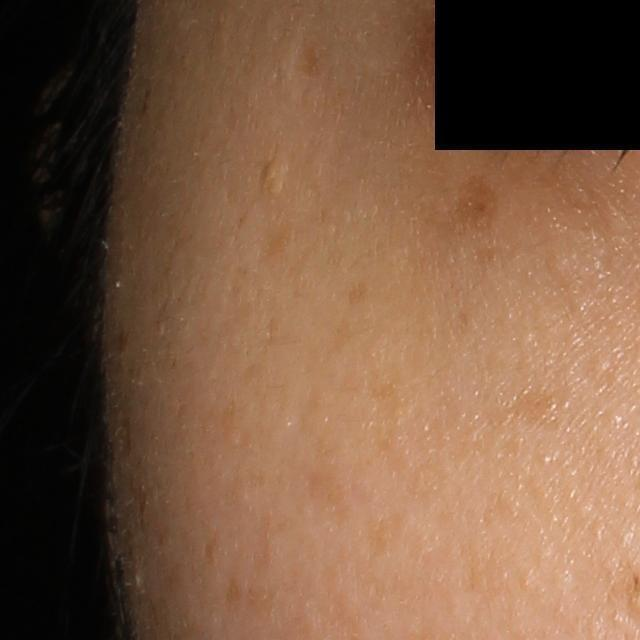atrophic_scar: (284, 24, 327, 87)
melasma: (365, 365, 413, 478), (441, 168, 500, 237), (500, 387, 570, 432), (216, 572, 250, 611), (344, 276, 371, 305), (203, 537, 220, 568)
